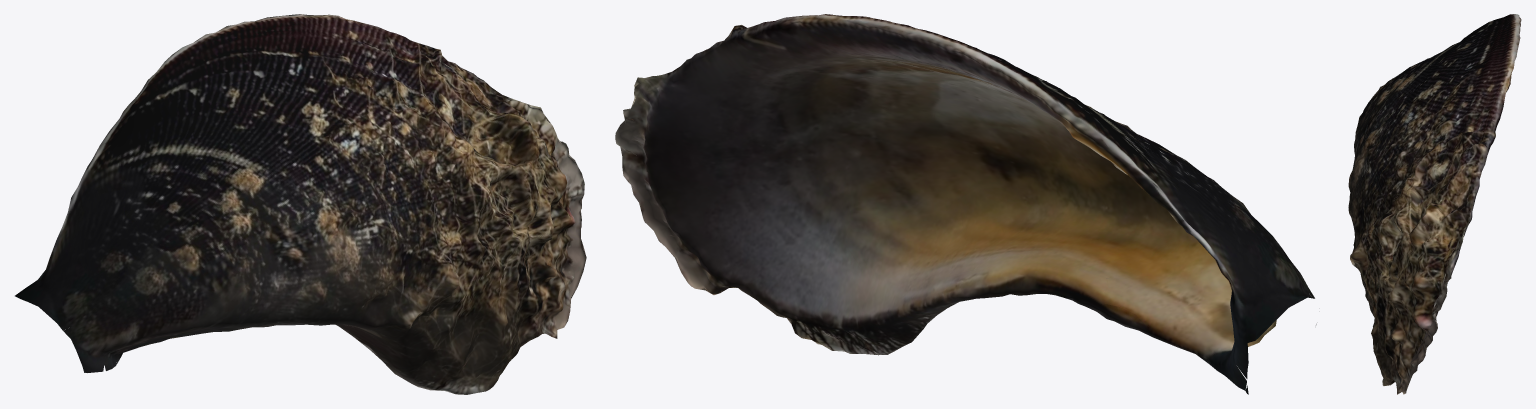
The model's file is Hairy Mussel.glb.
3 views of the same model, side by side, from view 1: azimuth 30°, elevation 25°; view 2: azimuth 150°, elevation 25°; view 3: azimuth 270°, elevation 25° (orthographic). The views are drawn at different scales.
Bounding box in the file's own units: 0.3837 × 0.2369 × 0.1279.
Materials: 1 (1 with a texture image).
